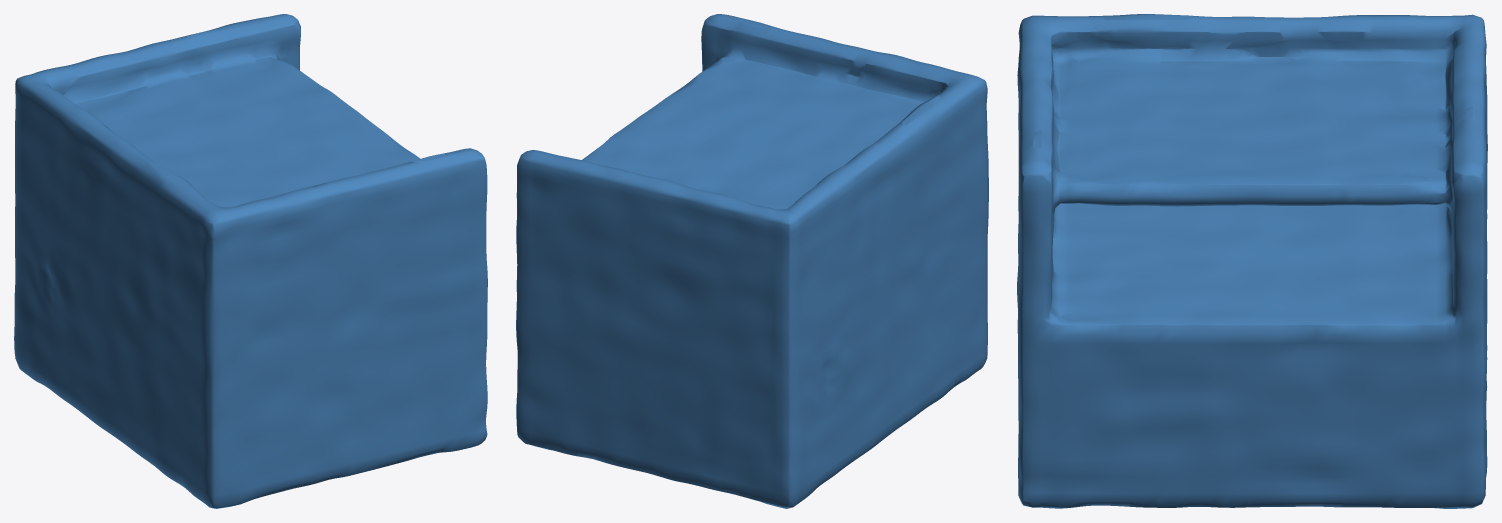
Rendered from nightstand_8_7.obj.
The picture shows the model from 3 angles, left to right: view 1: azimuth 30°, elevation 25°; view 2: azimuth 150°, elevation 25°; view 3: azimuth 270°, elevation 25°; orthographic projection. The views are drawn at different scales.
Bounding box in the file's own units: 0.6491 × 0.6576 × 0.8026.
